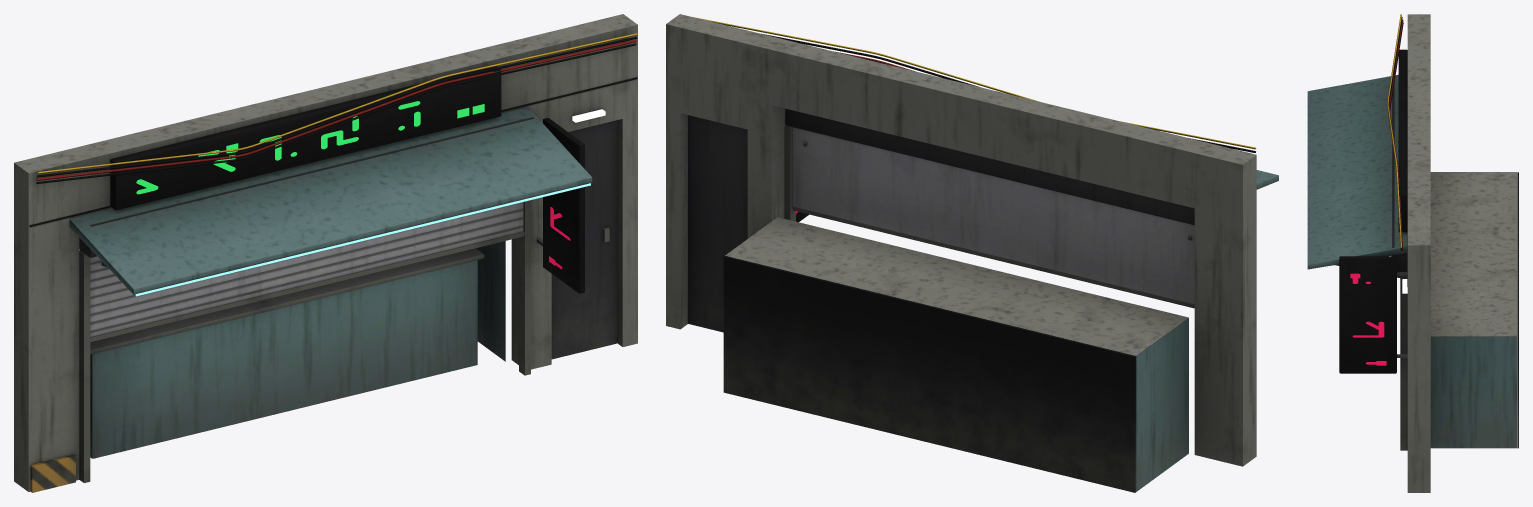
The model's file is shopfront.glb.
The picture shows the model from 3 angles, left to right: view 1: azimuth 30°, elevation 25°; view 2: azimuth 150°, elevation 25°; view 3: azimuth 270°, elevation 25°; orthographic projection. The views are drawn at different scales.
Parts seen in each view (by area): view 1: facade_shop_mesh, facade_shop_fittings; view 2: facade_shop_mesh; view 3: facade_shop_mesh, facade_shop_fittings.
Part boxes in pixels (<box>): facade_shop_mesh: <box>14,14,637,492</box>; facade_shop_fittings: <box>135,101,605,296</box>; facade_shop_mesh: <box>666,14,1278,492</box>; facade_shop_mesh: <box>1307,14,1518,492</box>; facade_shop_fittings: <box>1307,96,1407,365</box>.
Bounding box in the file's own units: 6 × 3.03 × 2.32.
6 materials, 4 textured.
